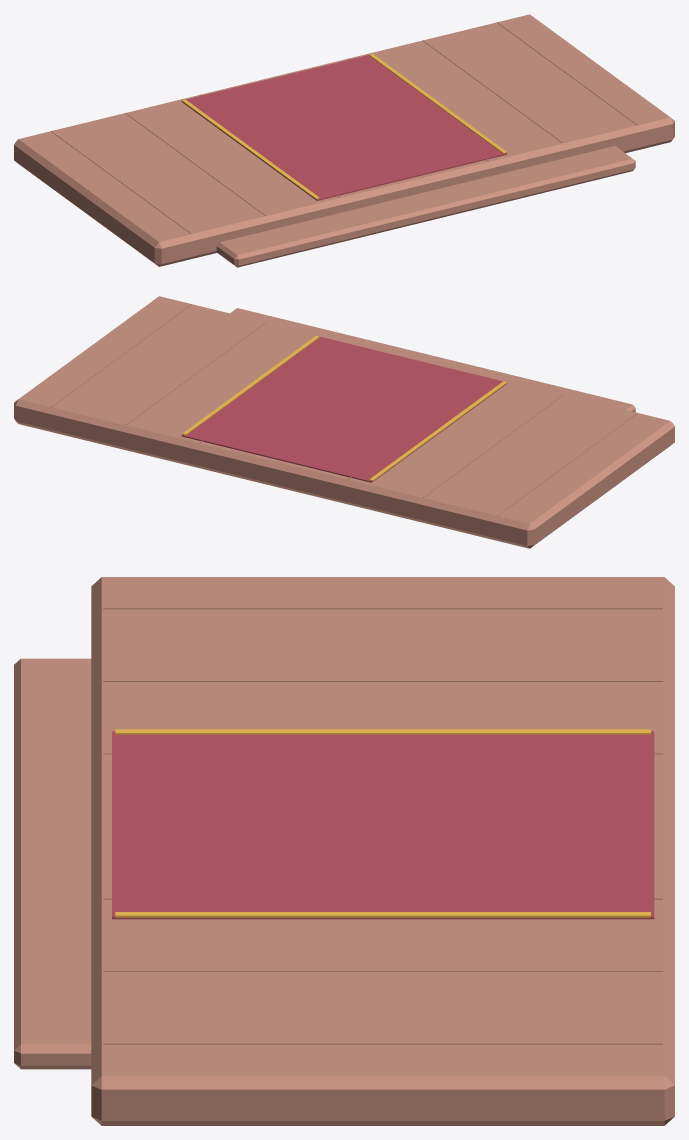
3 views of the same model, one above another, from view 1: azimuth 30°, elevation 25°; view 2: azimuth 150°, elevation 25°; view 3: azimuth 270°, elevation 25° (orthographic). The views are drawn at different scales.
Visible parts, largest first — view 1: Sanctuary platform, Stage carpet, Entry step, Carpet border, Carpet border.001; view 2: Sanctuary platform, Stage carpet, Entry step, Carpet border, Carpet border.001; view 3: Sanctuary platform, Stage carpet, Entry step, Carpet border, Carpet border.001, Wood seam, Wood seam.005, Wood seam.001, Wood seam.004.
Boxes of the visible parts, bbox=[...] form: Sanctuary platform: bbox=[14, 14, 674, 266]; Stage carpet: bbox=[181, 55, 507, 200]; Entry step: bbox=[216, 146, 635, 267]; Carpet border: bbox=[182, 99, 319, 198]; Carpet border.001: bbox=[369, 54, 506, 153]; Sanctuary platform: bbox=[14, 296, 674, 548]; Stage carpet: bbox=[181, 336, 507, 482]; Entry step: bbox=[230, 308, 635, 412]; Carpet border: bbox=[369, 381, 506, 480]; Carpet border.001: bbox=[182, 336, 319, 435]; Sanctuary platform: bbox=[91, 577, 674, 1125]; Stage carpet: bbox=[112, 731, 654, 919]; Entry step: bbox=[14, 658, 91, 1069]; Carpet border: bbox=[115, 729, 650, 734]; Carpet border.001: bbox=[115, 912, 650, 917]; Wood seam: bbox=[103, 607, 662, 609]; Wood seam.005: bbox=[103, 1042, 662, 1044]; Wood seam.001: bbox=[103, 680, 662, 681]; Wood seam.004: bbox=[103, 970, 662, 971].
Size of the model in its own units: 350 by 17.3 by 193.
